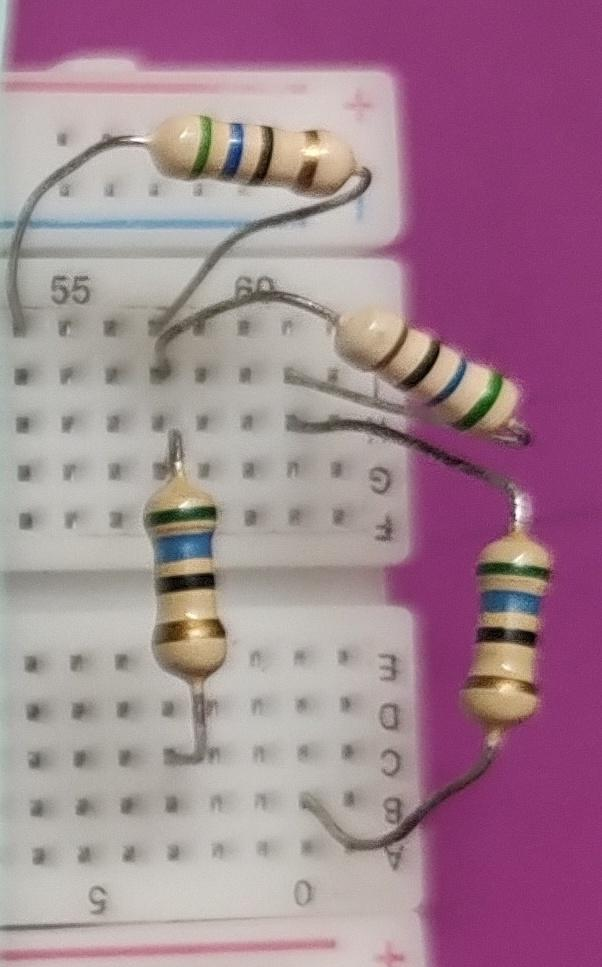resistor: (315, 289, 547, 444), (135, 469, 248, 693), (455, 517, 560, 743), (145, 107, 365, 212)
